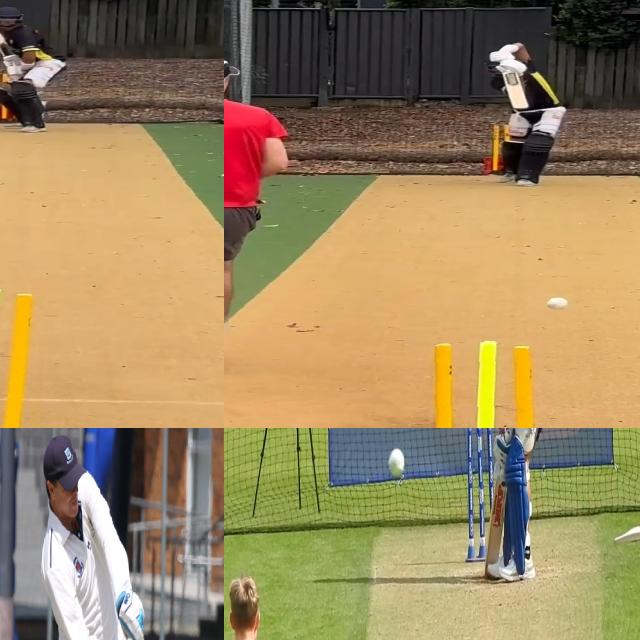Cricket ball: (545, 297, 571, 310)
Stumps: (415, 340, 547, 428), (0, 287, 52, 428), (388, 446, 408, 482)
